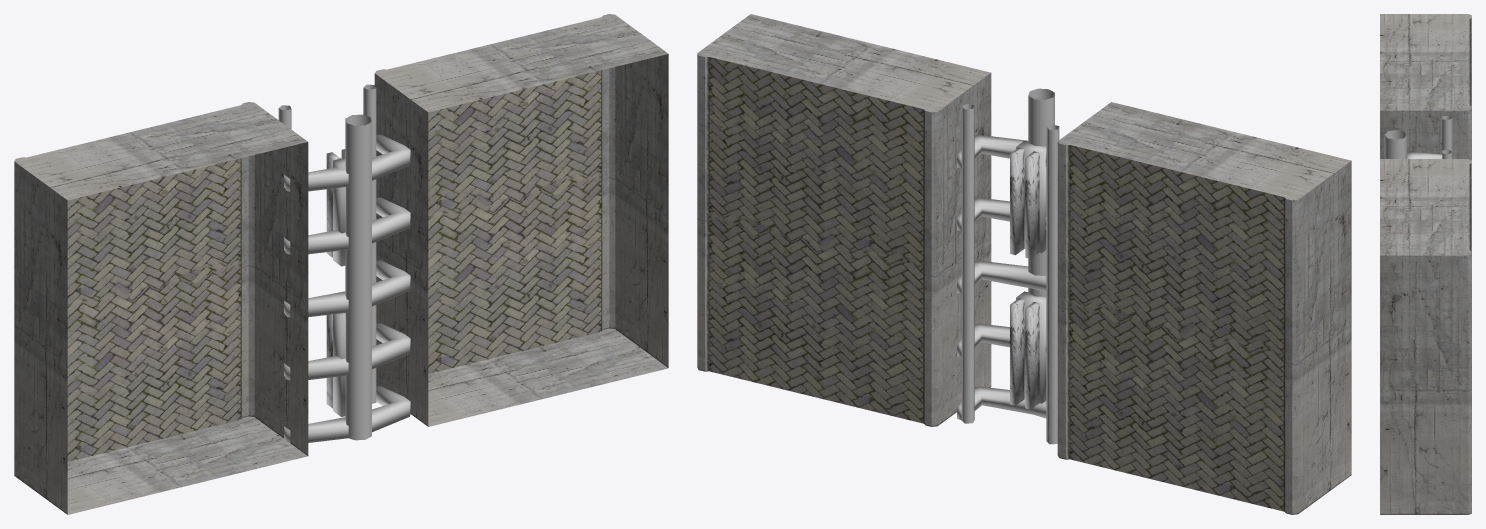
File: steel 1 station.fbx
3 views of the same model, side by side, from view 1: azimuth 30°, elevation 25°; view 2: azimuth 150°, elevation 25°; view 3: azimuth 270°, elevation 25° (orthographic). The views are drawn at different scales.
Visible parts, largest first — view 1: Cube; view 2: Cube; view 3: Cube.
Boxes of the visible parts, x1=… form: Cube: x1=14, y1=14, x2=668, y2=514; Cube: x1=697, y1=14, x2=1351, y2=514; Cube: x1=1380, y1=14, x2=1471, y2=514.
Bounding box in the file's own units: 10 × 5 × 1.61.
